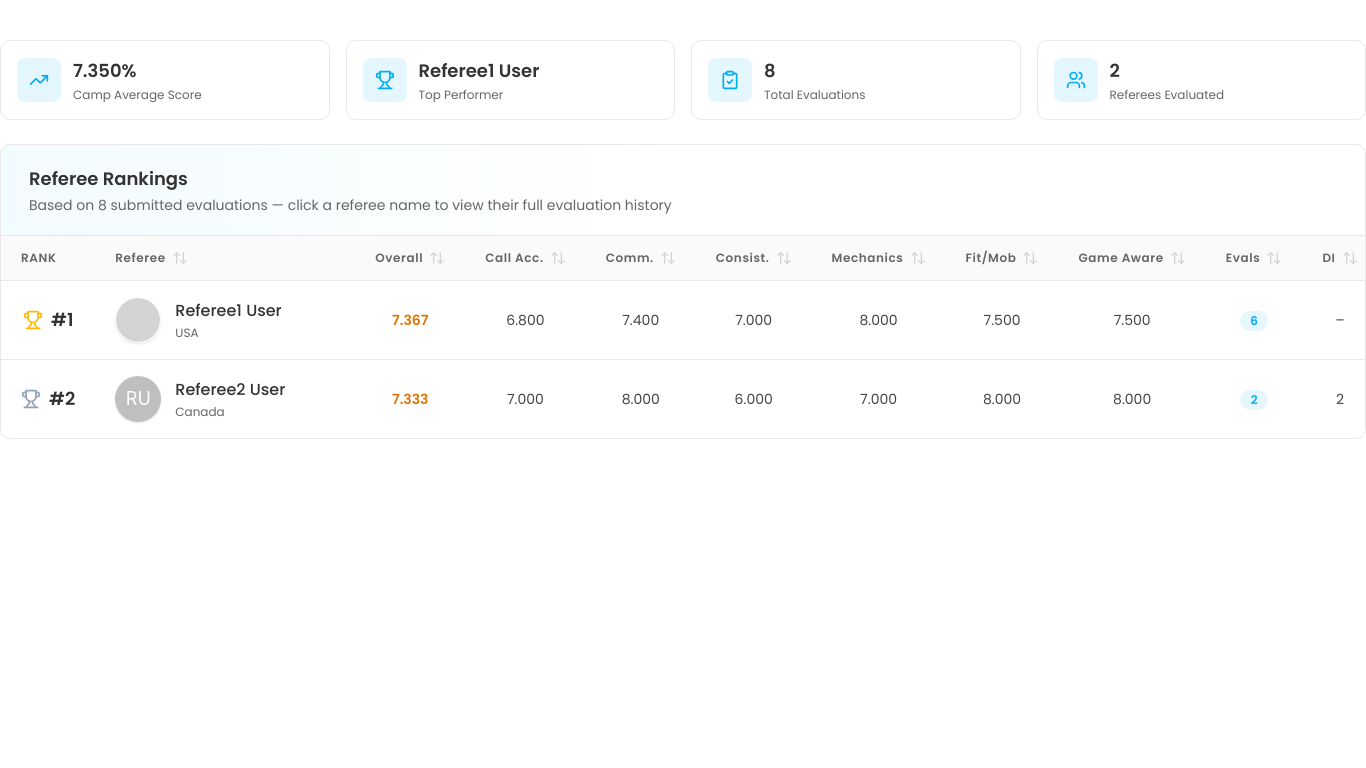
Rankings component › renders rankings table, stats cards, and handles referee selection without crashing
This screenshot has width=1366, height=768.
Expected: the heading "Referee Rankings" is shown, top-left (29, 166), bottom-right (188, 191)
Expected: the text "Total Evaluations" is shown, top-left (764, 87), bottom-right (866, 103)
# Clicking referee name opens details modal
Click the button "Referee1 User": x=255, y=311 top-left (175, 299), bottom-right (335, 323)
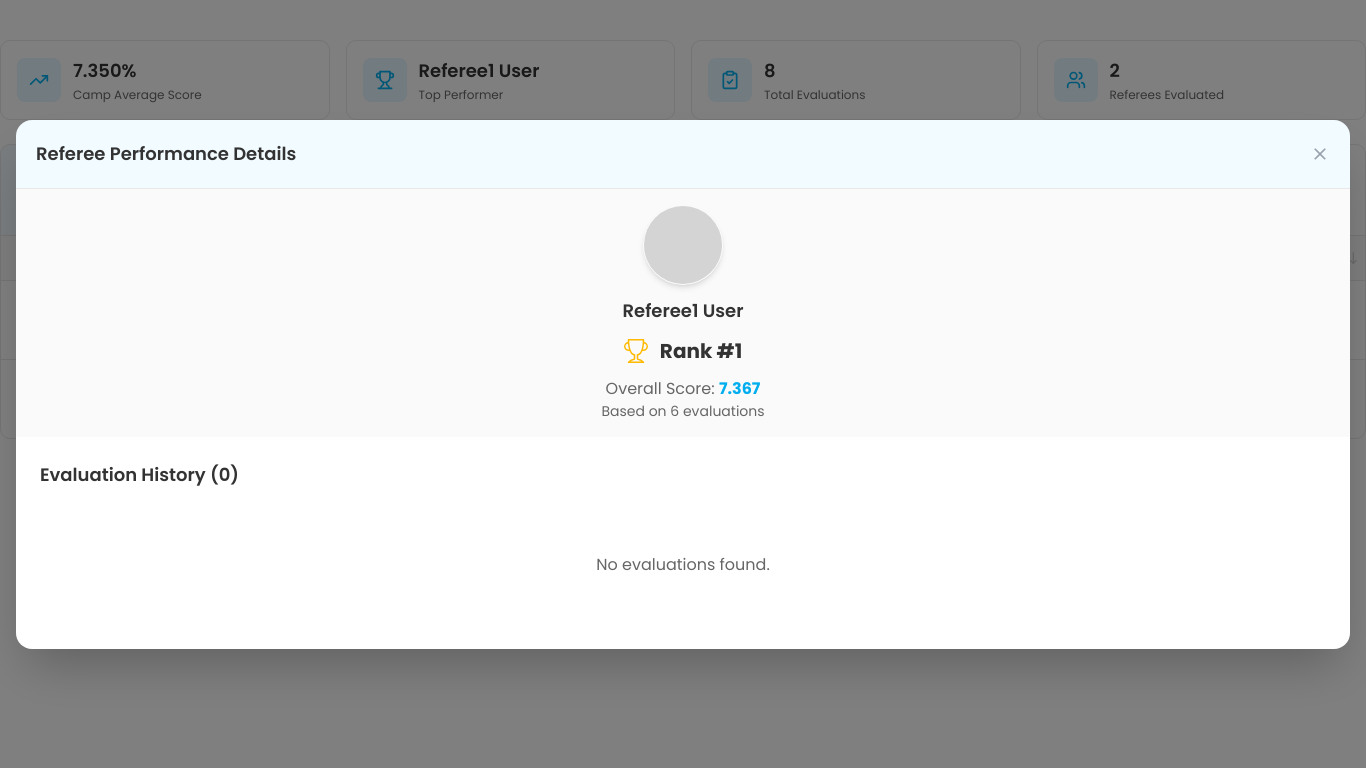
Expected: the heading "Referee Performance Details" is shown, top-left (36, 140), bottom-right (296, 168)
